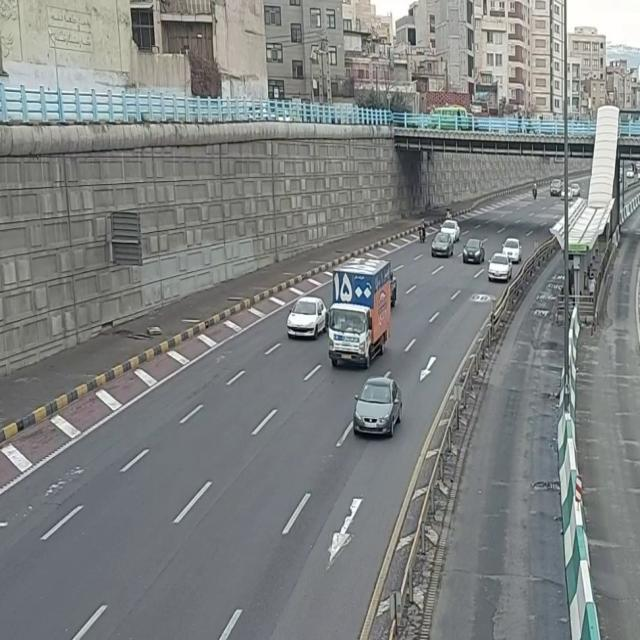Car: (353, 377, 404, 442), (286, 295, 328, 343), (461, 235, 487, 267), (488, 254, 513, 286), (430, 232, 455, 258)
Truck: (327, 260, 393, 372)
